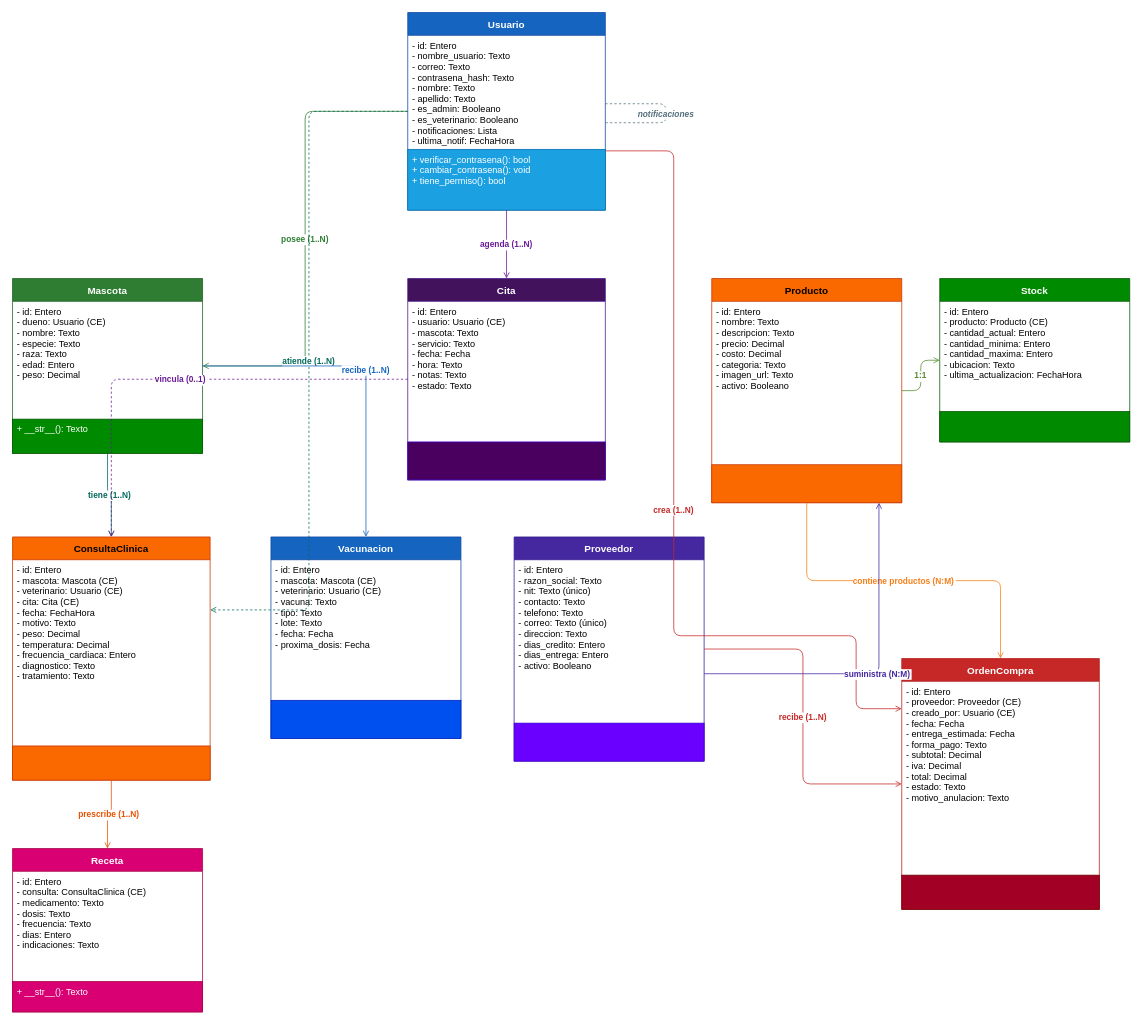
Image size: 1142x1024. Some labels were removed from this diagram. The shapes that lost their labels are listed below. From the top down, each one's centre as x and y in pixels, then its label:
At [1034,426]: "+ stock_bajo(): bool + __str__(): Texto «control de inventario»".
At [506,460]: "+ __str__(): Texto «pendiente/confirmada/cancelada»".
At [806,483]: "+ stock_bajo(): bool + __str__(): Texto".
At [365,719]: "+ __str__(): Texto «vacuna / desparasitante»".
At [608,741]: "+ __str__(): Texto «VM-77»".
At [111,762]: "+ __str__(): Texto «solo veterinarios - VM-76»".
At [1000,891]: "+ __str__(): Texto «pendiente/recibida/anulada - VM-78»".
